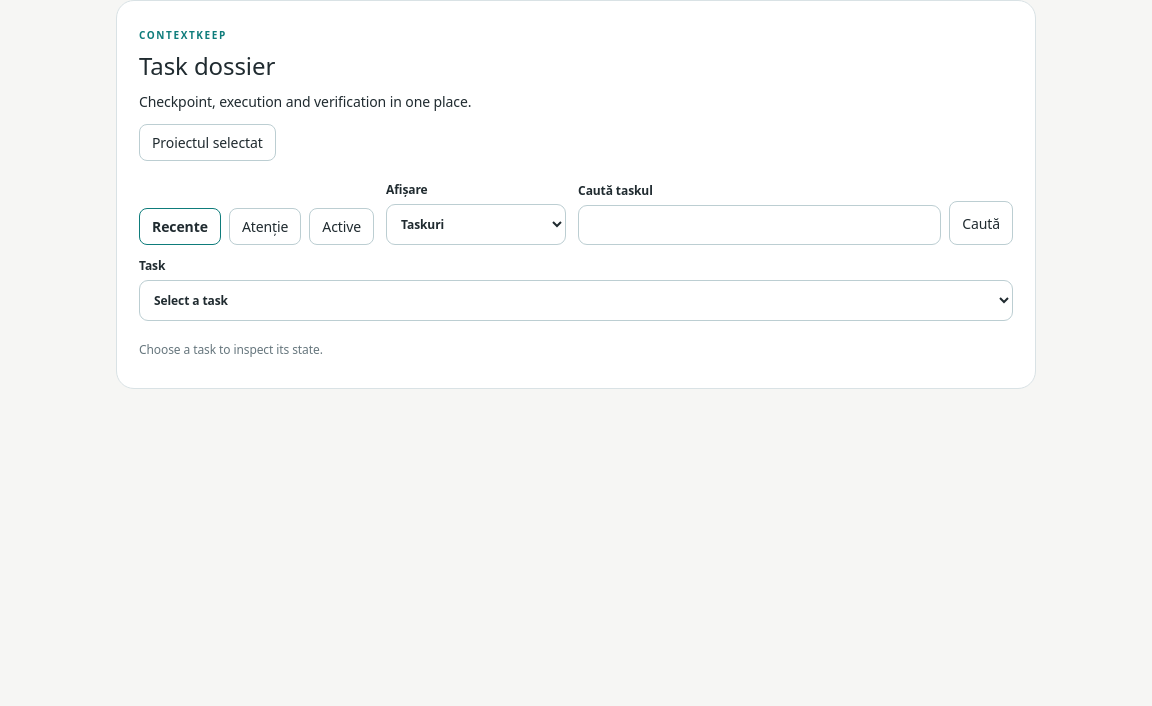
Test: shared task dossier › does not present an old task response after selection changes
This screenshot has width=1152, height=706.
Select "Verify synthetic result · in_progress · proposed" in the dropdown labelled "Task". click: (576, 300)
box: [139, 280, 1013, 321]
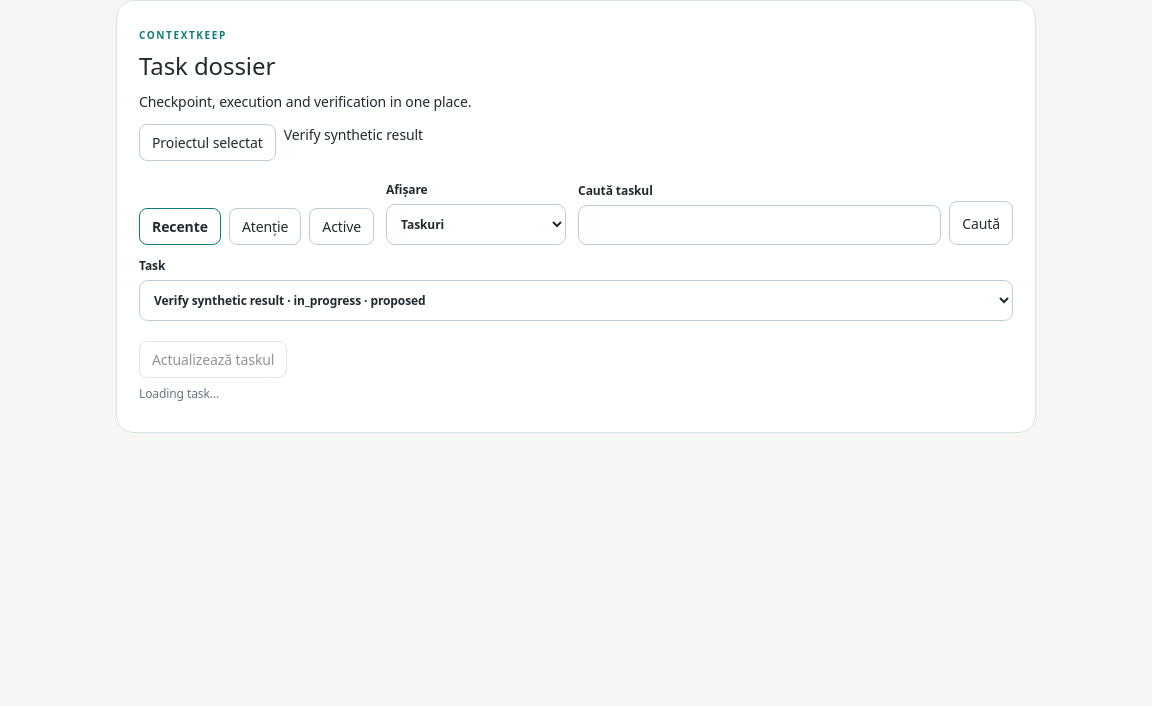
Select "Other task · in_progress · proposed" in the dropdown labelled "Task". click: (576, 300)
box: [139, 280, 1013, 321]
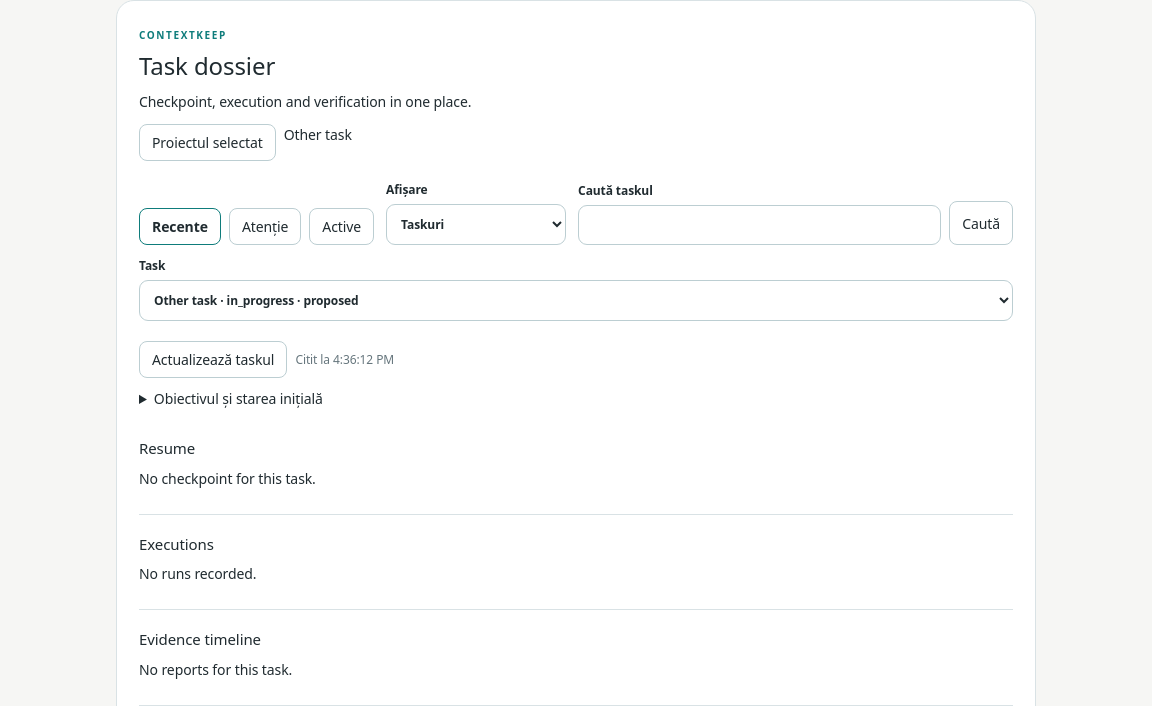
Result: the text "No checkpoint for this task." is shown at [139, 468, 316, 488]
